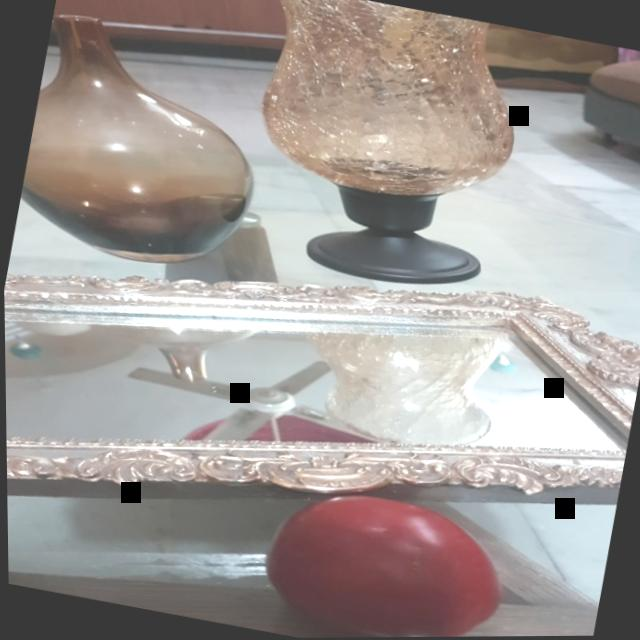tomato: (240, 465, 514, 639)
